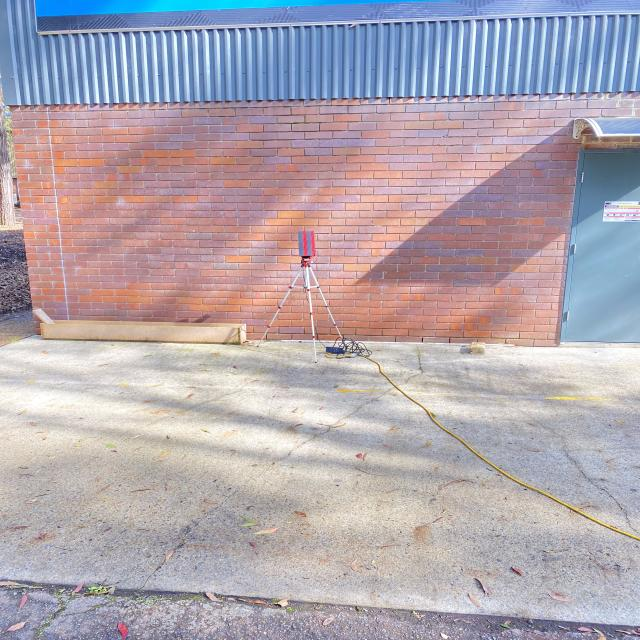matrix: (297, 230, 317, 256)
